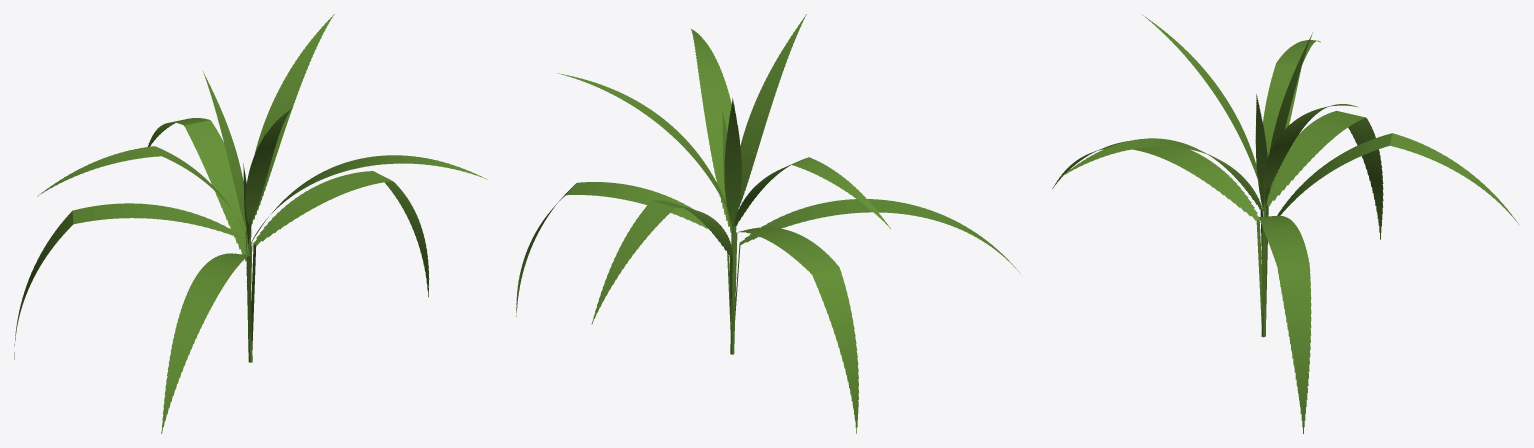
Rendered from maize_005_day_075.dae.
The picture shows the model from 3 angles, left to right: view 1: azimuth 30°, elevation 25°; view 2: azimuth 150°, elevation 25°; view 3: azimuth 270°, elevation 25°; orthographic projection. The views are drawn at different scales.
Visible parts, largest first — view 1: node; view 2: node; view 3: node.
Part boxes in pixels (x1,y1,x2,y2): node: (14,14,487,433); node: (516,14,1020,433); node: (1052,14,1519,433).
Bounding box in the file's own units: 0.9488 × 0.7045 × 0.9506.
Materials: 1 (1 with a texture image).
